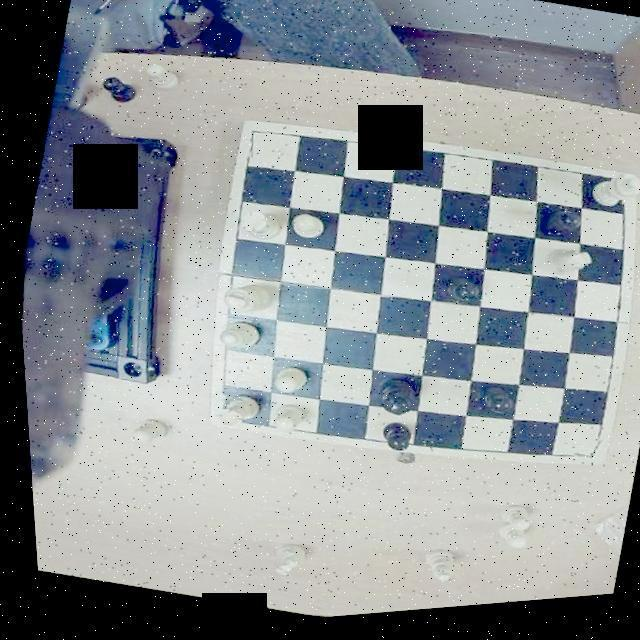chess-table-corners: (234, 124, 276, 166), (198, 392, 240, 434), (594, 178, 632, 218), (561, 440, 600, 476)
